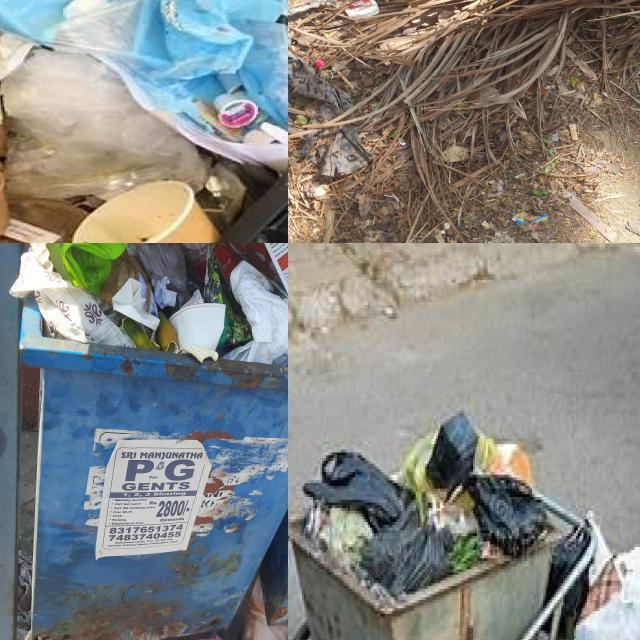Disposable: (242, 577, 288, 640)
Garbage: (288, 0, 640, 243), (288, 409, 561, 604), (21, 243, 288, 372)
Plastic: (2, 49, 210, 199), (58, 243, 127, 295)
Plastic_Bag: (304, 453, 451, 597), (426, 413, 547, 555), (228, 260, 288, 365), (127, 243, 186, 291), (215, 243, 271, 279)
Plastic_bottle: (181, 243, 208, 280)
Plastic_wraper: (203, 243, 253, 348), (390, 132, 407, 146)
Tetrapack: (344, 0, 379, 20)
